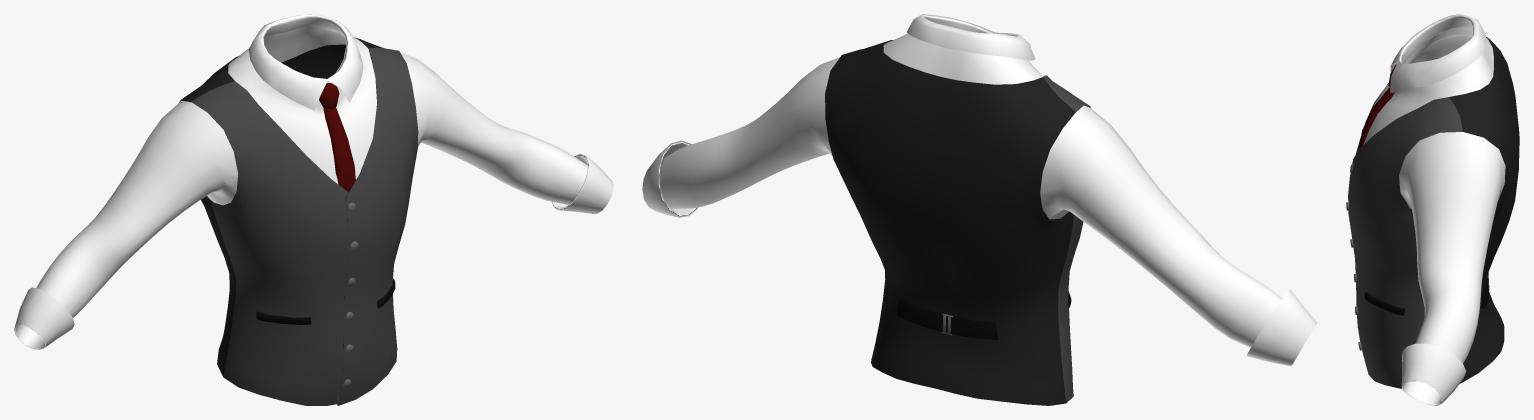
The model's file is vest.fbx.
3 views of the same model, side by side, from view 1: azimuth 30°, elevation 25°; view 2: azimuth 150°, elevation 25°; view 3: azimuth 270°, elevation 25° (orthographic). The views are drawn at different scales.
Parts seen in each view (by area): view 1: vest, Tshirt1, Tshirt2, Tsgirt4, Tshirt3, CRB; view 2: vest, Tshirt1, Tshirt2, Tsgirt4, back1, Tshirt3; view 3: vest, Tshirt1, Tshirt2, Tshirt3, CRB, Packet1.
Part boxes in pixels (<box>): vest: <box>179,37,418,405</box>; Tshirt1: <box>15,26,587,348</box>; Tshirt2: <box>248,14,363,110</box>; Tsgirt4: <box>14,287,74,349</box>; Tshirt3: <box>551,153,613,214</box>; CRB: <box>323,107,355,192</box>; vest: <box>825,40,1090,405</box>; Tshirt1: <box>660,33,1282,347</box>; Tshirt2: <box>906,14,1035,60</box>; Tsgirt4: <box>1246,289,1317,366</box>; back1: <box>896,299,997,339</box>; Tshirt3: <box>642,140,698,217</box>; vest: <box>1348,37,1519,388</box>; Tshirt1: <box>1363,26,1505,405</box>; Tshirt2: <box>1390,14,1485,92</box>; Tshirt3: <box>1401,343,1466,405</box>; CRB: <box>1359,87,1394,148</box>; Packet1: <box>1365,291,1405,315</box>.
Size of the model in its own units: 46.35 by 26.03 by 11.96.
